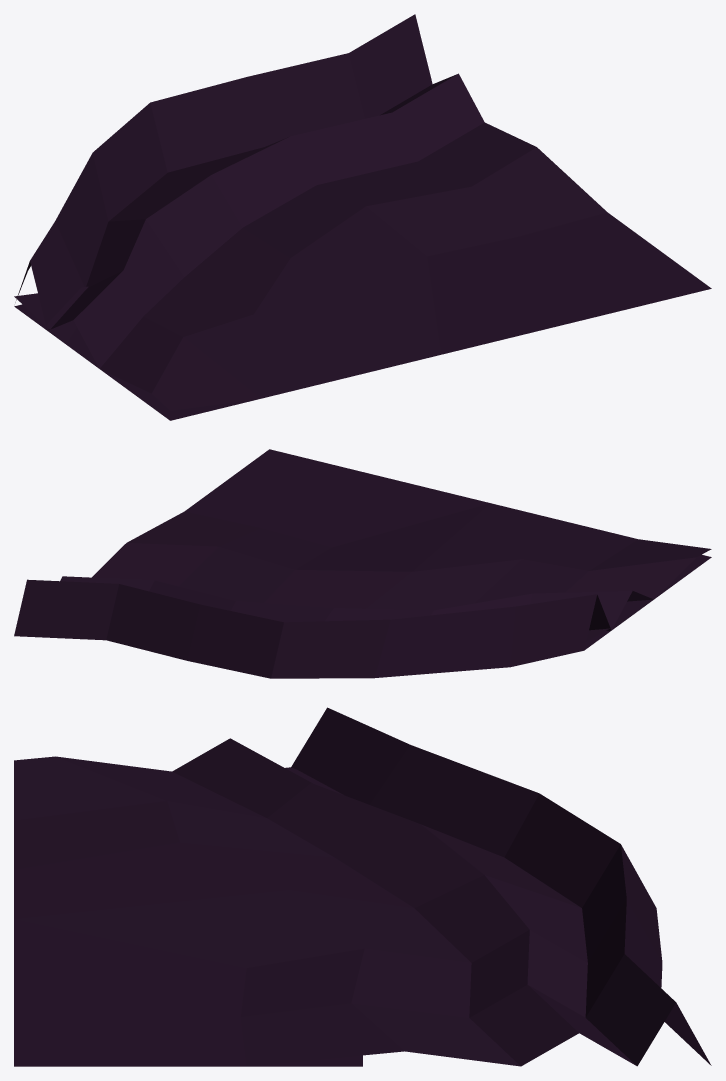
The model's file is Stuff_4.fbx.
The picture shows the model from 3 angles, top to bottom: view 1: azimuth 30°, elevation 25°; view 2: azimuth 150°, elevation 25°; view 3: azimuth 270°, elevation 25°; orthographic projection. The views are drawn at different scales.
Visible parts, largest first — view 1: boden_ende_5, boden_ende_6, boden_ende_7; view 2: boden_ende_5, boden_ende_6; view 3: boden_ende_5, boden_ende_6.
Part boxes in pixels (bbox=[...]): boden_ende_5: bbox=[15, 14, 607, 410]; boden_ende_6: bbox=[14, 212, 711, 420]; boden_ende_7: bbox=[14, 286, 88, 344]; boden_ende_5: bbox=[14, 485, 711, 678]; boden_ende_6: bbox=[184, 449, 711, 650]; boden_ende_5: bbox=[14, 707, 711, 1066]; boden_ende_6: bbox=[14, 919, 362, 1066].
Size of the model in its own units: 500 by 55.58 by 500.
